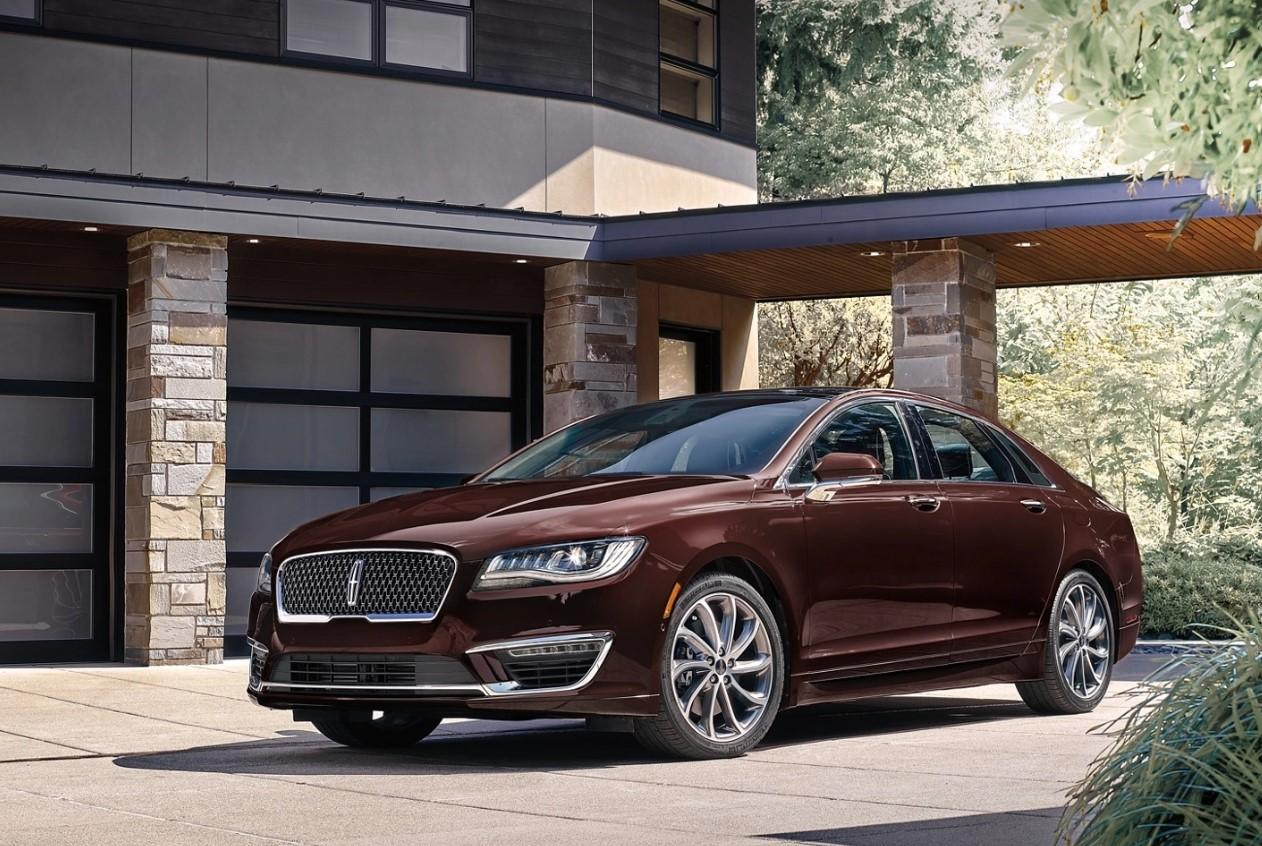lincoln: (341, 557, 369, 613)
